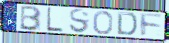B: (19, 5, 43, 32)
D: (117, 11, 139, 37)
F: (140, 12, 164, 38)
L: (46, 7, 64, 34)
O: (93, 10, 115, 35)
S: (69, 8, 91, 34)
